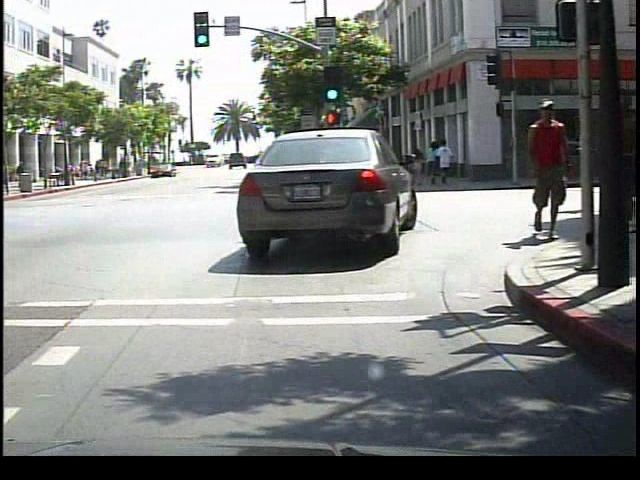person: (514, 92, 574, 249), (9, 157, 27, 189)
